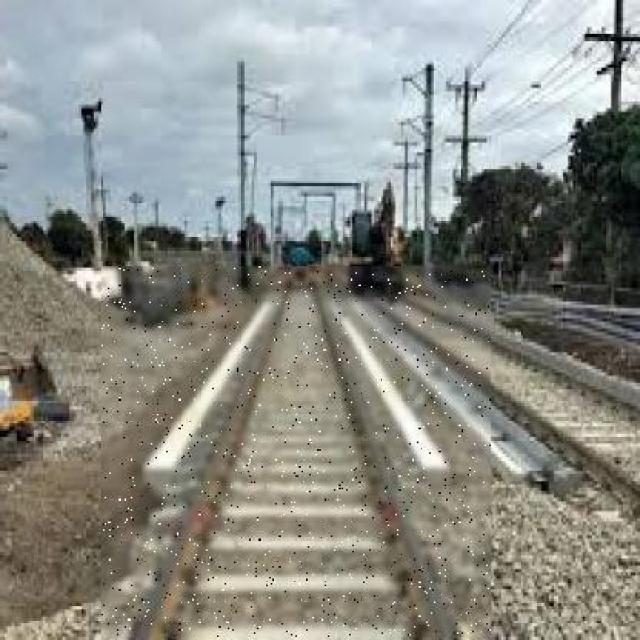danger: (341, 180, 407, 294)
rail: (102, 267, 490, 637), (357, 286, 640, 549)
